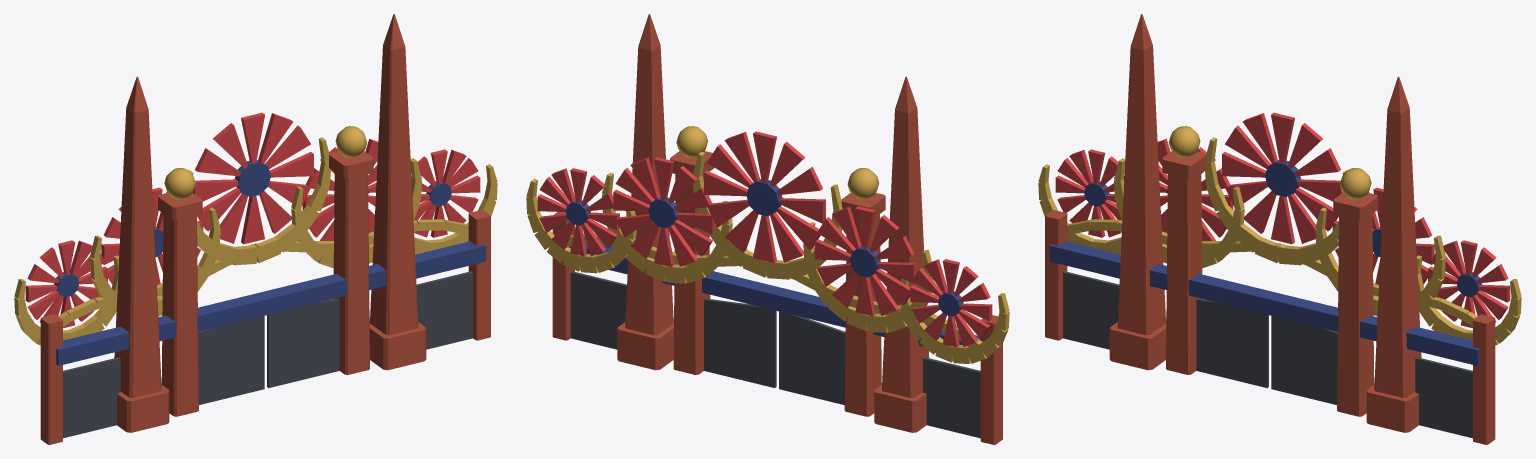
The model's file is nyc-luna-park-gate.glb.
The picture shows the model from 3 angles, left to right: view 1: azimuth 30°, elevation 25°; view 2: azimuth 150°, elevation 25°; view 3: azimuth 330°, elevation 25°; orthographic projection.
Visible parts, largest first — view 1: Luna Park entrance gate; view 2: Luna Park entrance gate; view 3: Luna Park entrance gate.
Boxes of the visible parts, <box> form: Luna Park entrance gate: <box>14,14,497,444</box>; Luna Park entrance gate: <box>526,14,1009,444</box>; Luna Park entrance gate: <box>1038,14,1521,444</box>.
Size of the model in its own units: 19.06 by 13 by 1.9.
